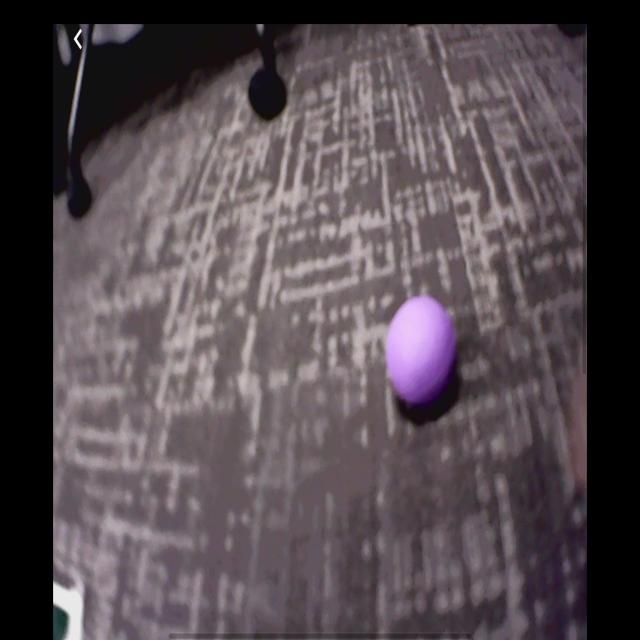ball: (385, 294, 459, 409)
